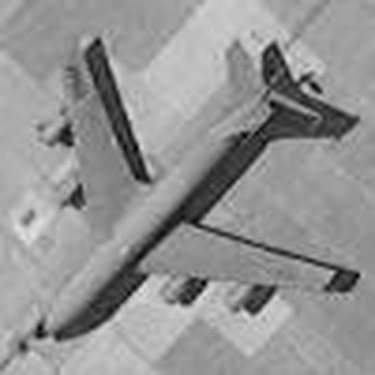airplane: (14, 19, 365, 354)
